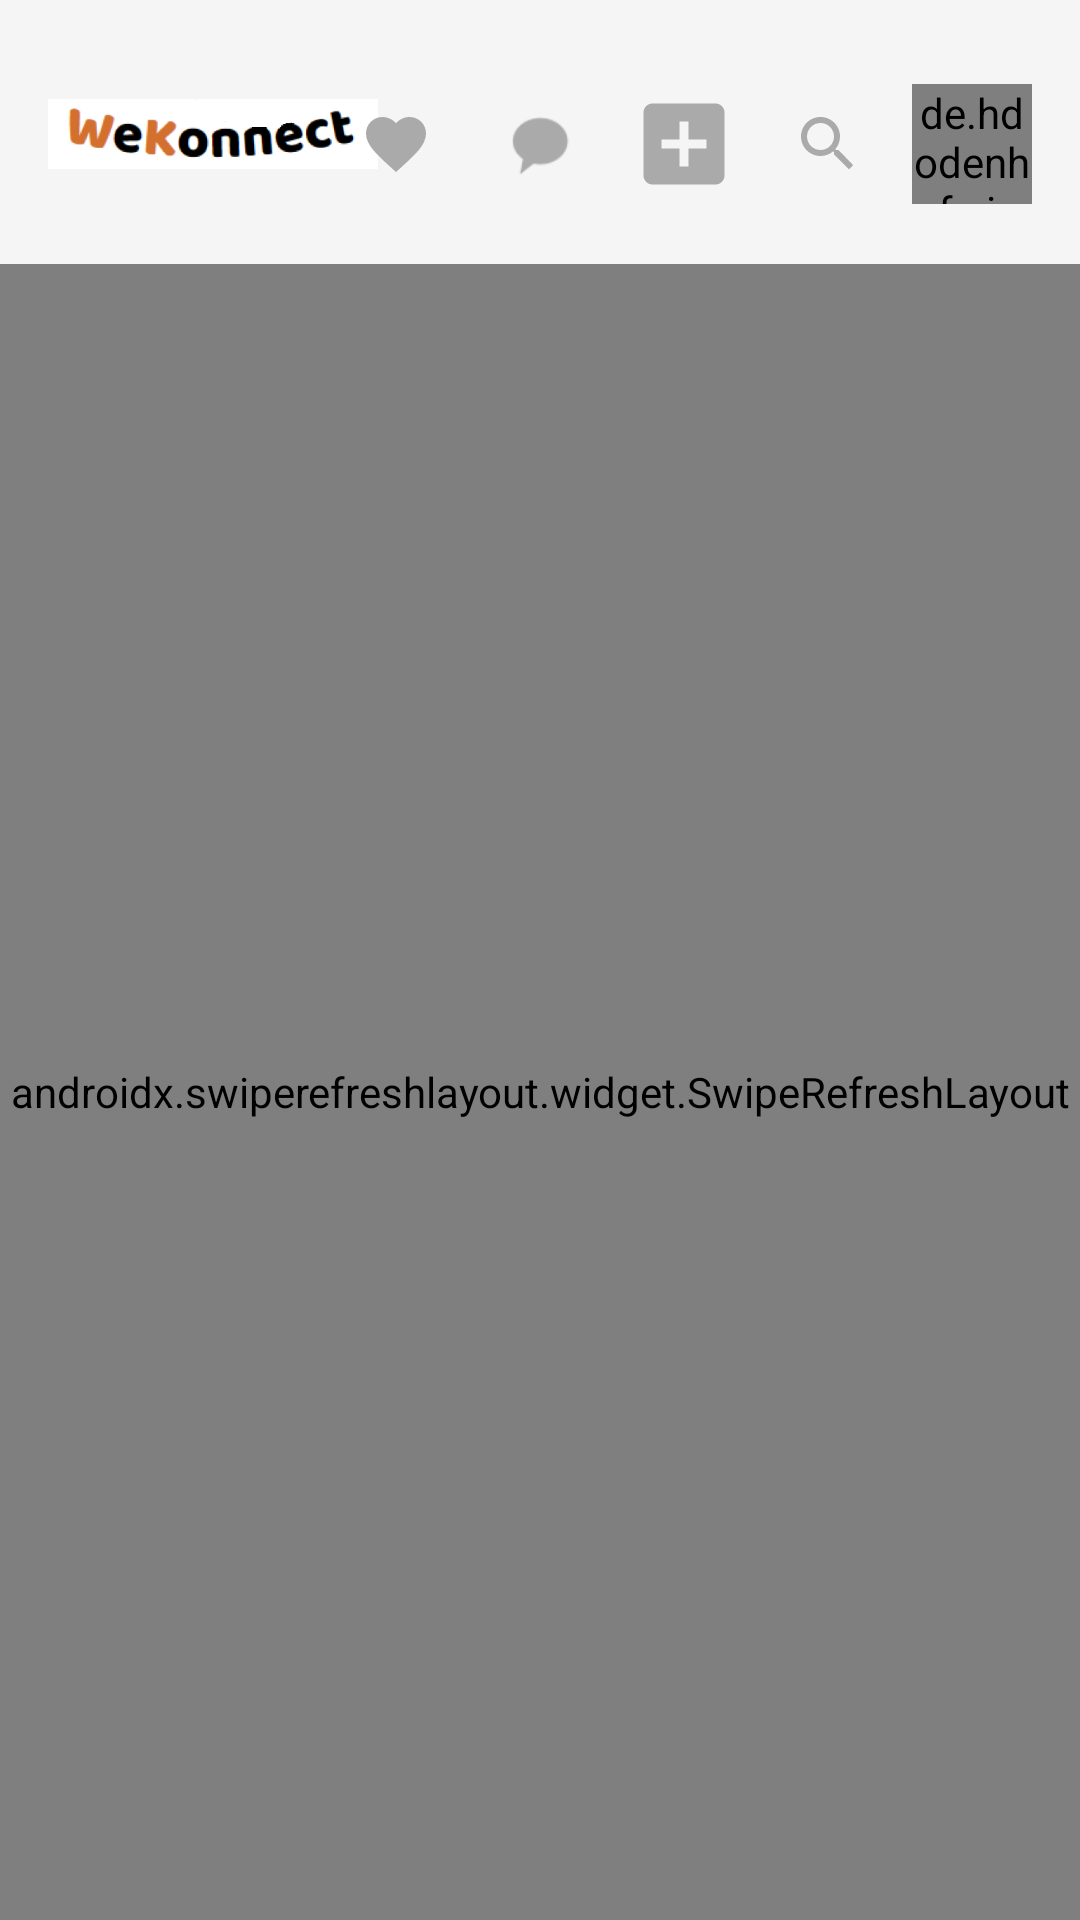

Point at icon controls on the screen. Image size 1080 × 1920, points as (x,y).
add box: (684,144)
liked: (396,144)
search: (827,143)
sym action chat: (540,146)
